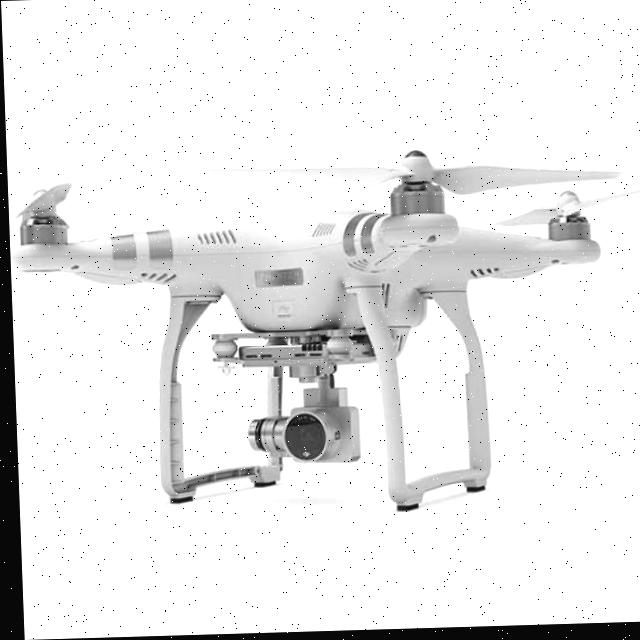drone: (15, 138, 640, 379)
